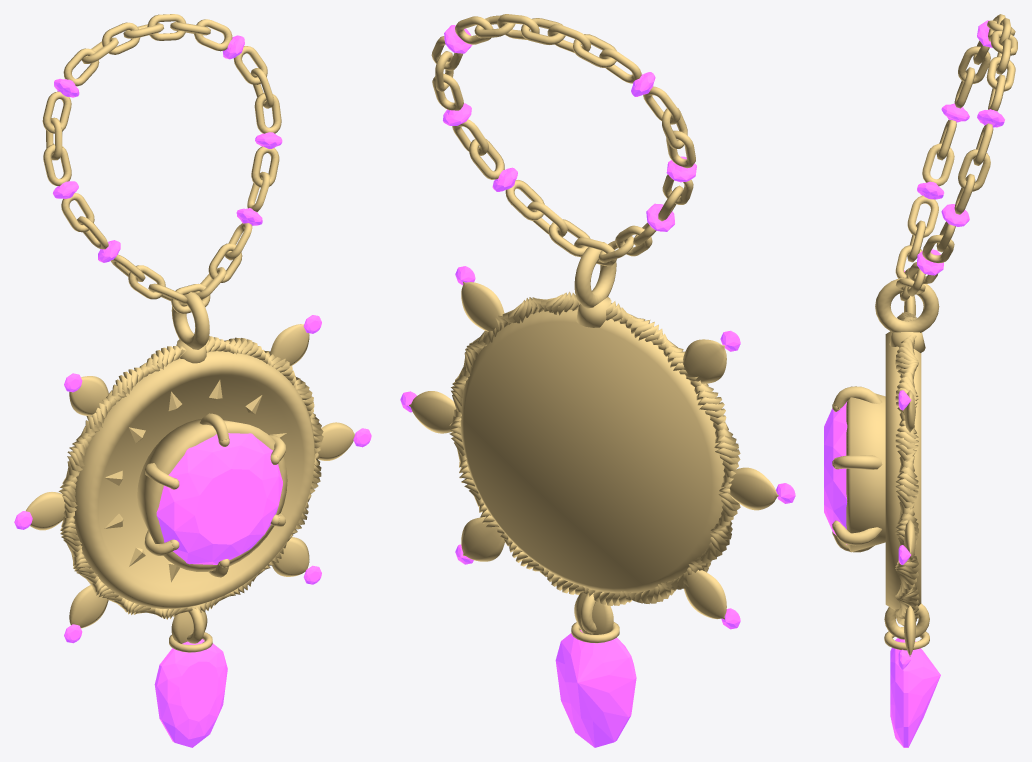
Rendered from jewel_amulet_epic.glb.
The picture shows the model from 3 angles, left to right: view 1: azimuth 30°, elevation 25°; view 2: azimuth 150°, elevation 25°; view 3: azimuth 270°, elevation 25°; orthographic projection. The views are drawn at different scales.
Parts seen in each view (by area): view 1: jewel_amulet_epic; view 2: jewel_amulet_epic; view 3: jewel_amulet_epic.
Boxes of the visible parts, x1,y1,x2,y2 form: jewel_amulet_epic: [14, 14, 371, 747]; jewel_amulet_epic: [400, 14, 795, 747]; jewel_amulet_epic: [824, 14, 1017, 747].
Bounding box in the file's own units: 2.99 × 5.54 × 1.36.
